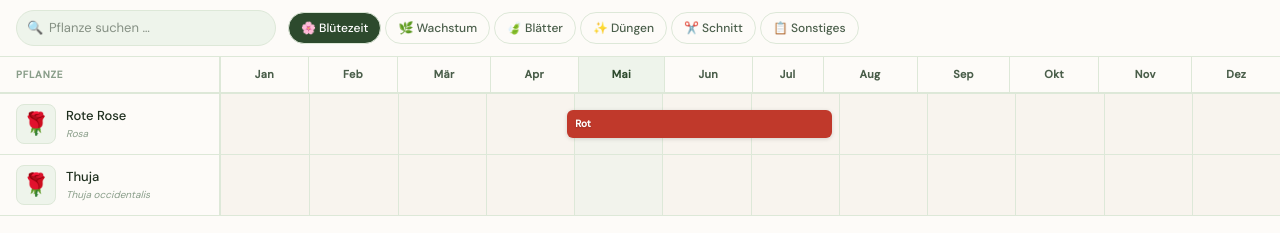
CalendarView — bars › switching to pruning type shows no bars (no pruning schedules)
This screenshot has width=1280, height=233.
Click the button with test id "schedule-toggle-pruning": click(713, 28) [671, 12, 756, 44]
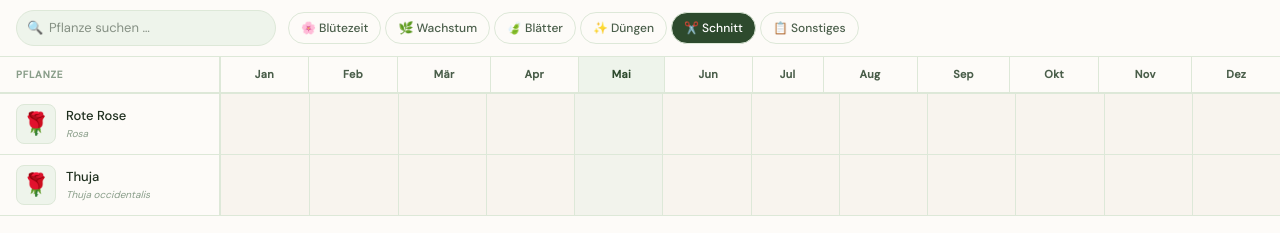
Check: no elements with test id "calendar-bar" are shown
